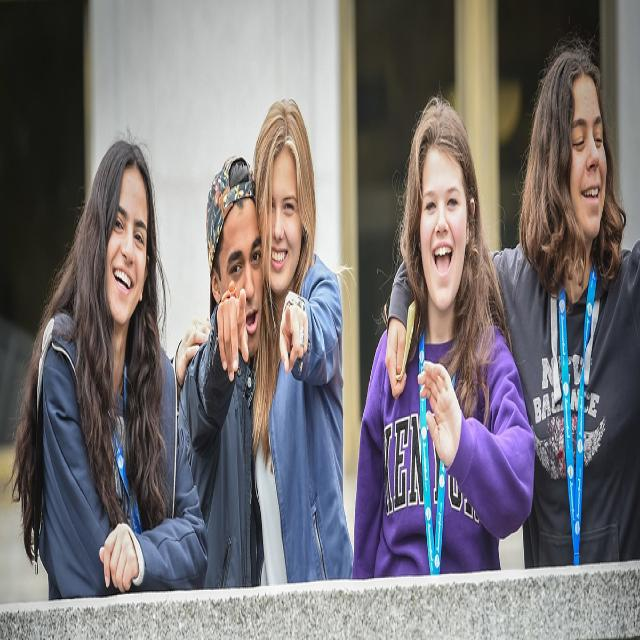body: (386, 42, 638, 565), (8, 129, 210, 607), (169, 94, 355, 587), (352, 94, 536, 580), (176, 146, 264, 590)
